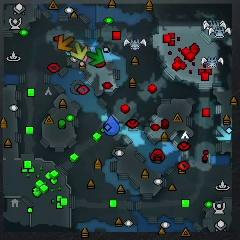p1: (104, 115, 120, 136)
x2: (70, 42, 88, 60)
x3: (216, 125, 232, 142)
x4: (88, 48, 105, 67)
x5: (58, 34, 74, 52)
